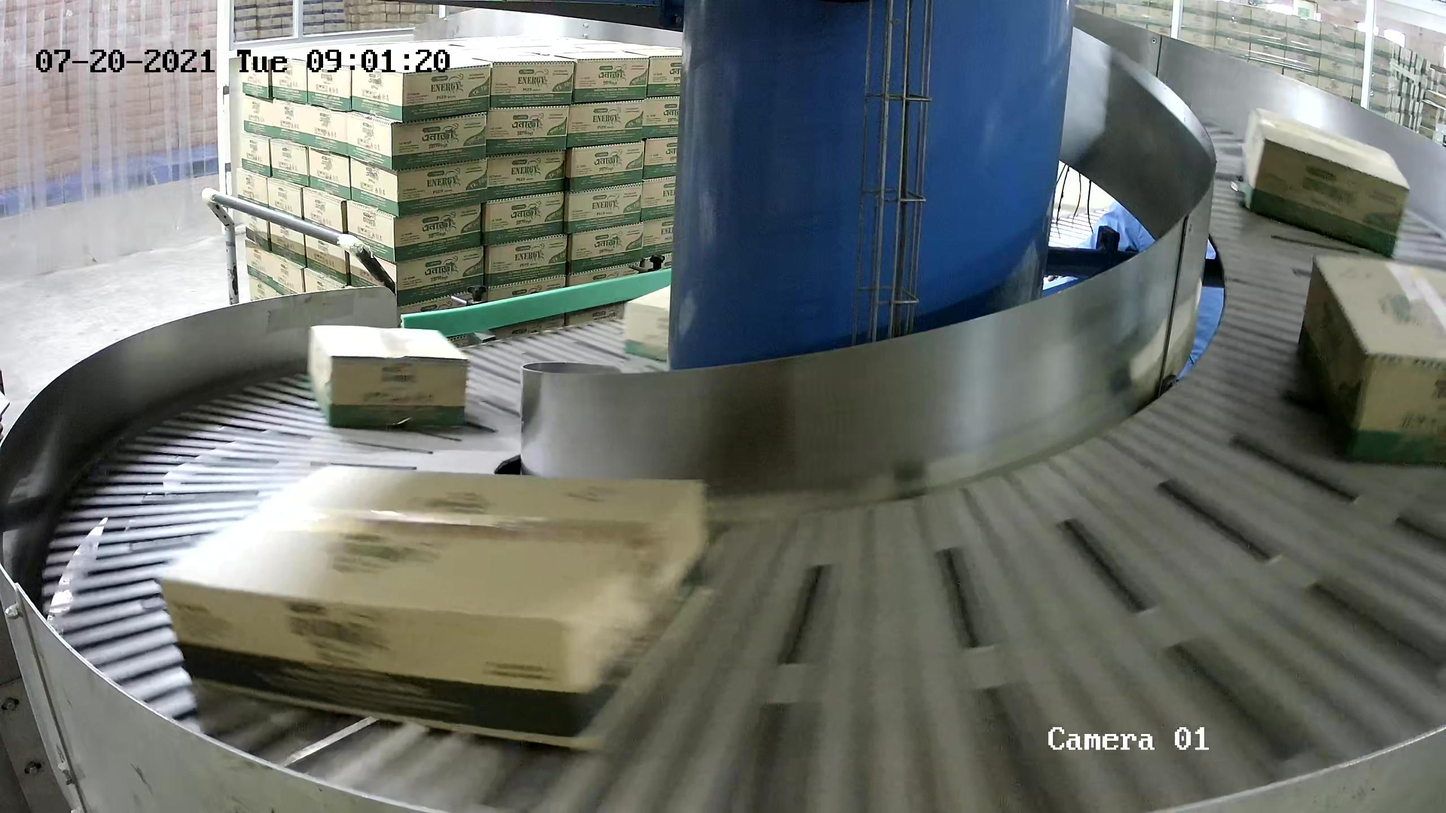Box: (151, 456, 716, 760), (1295, 251, 1446, 468), (1237, 104, 1412, 260), (306, 321, 470, 430), (622, 282, 675, 364)
